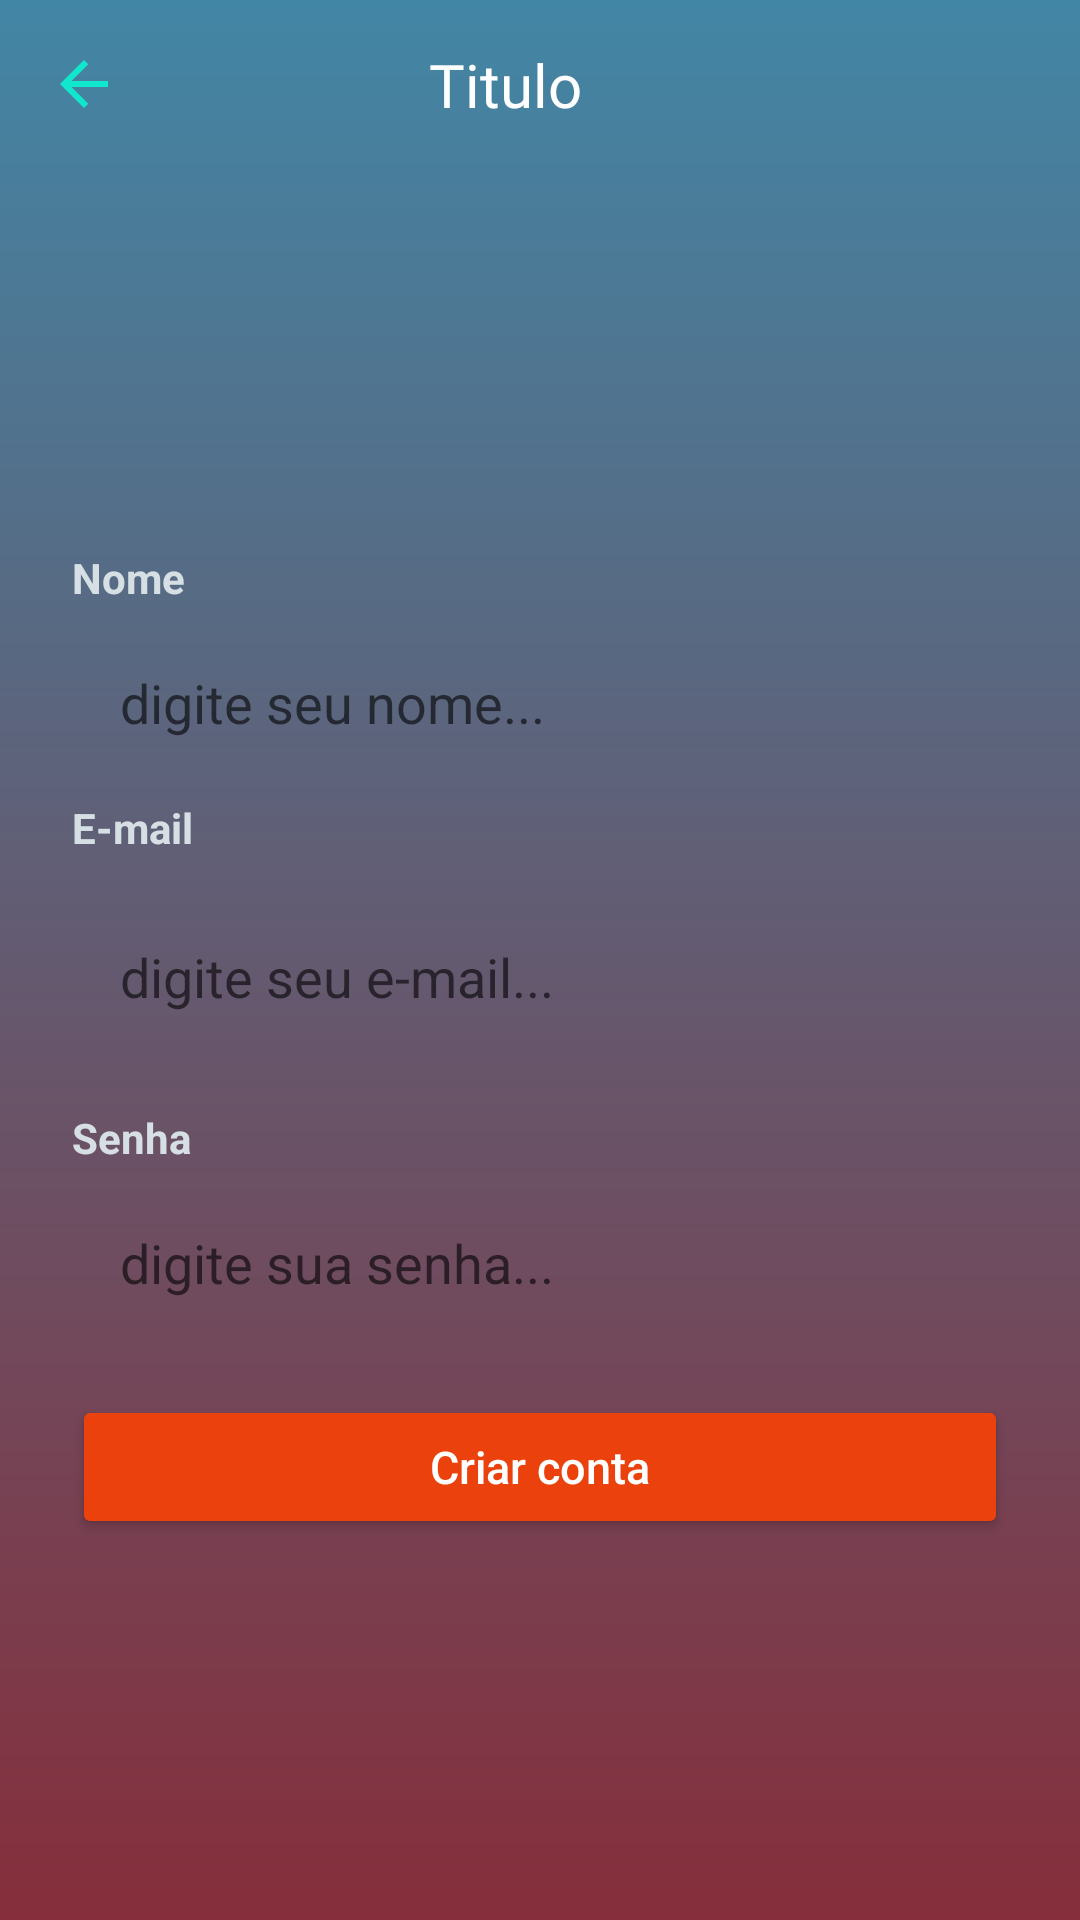

Screen size 1080 × 1920. Icon name, then its box in pixels as [x1, y1, x2, y2]:
voltar: [60, 60, 108, 108]
